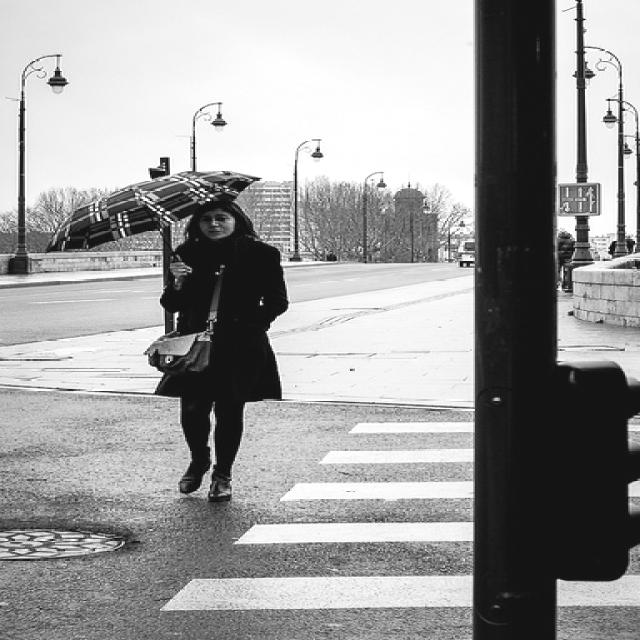Vehicle: (458, 240, 476, 268)
